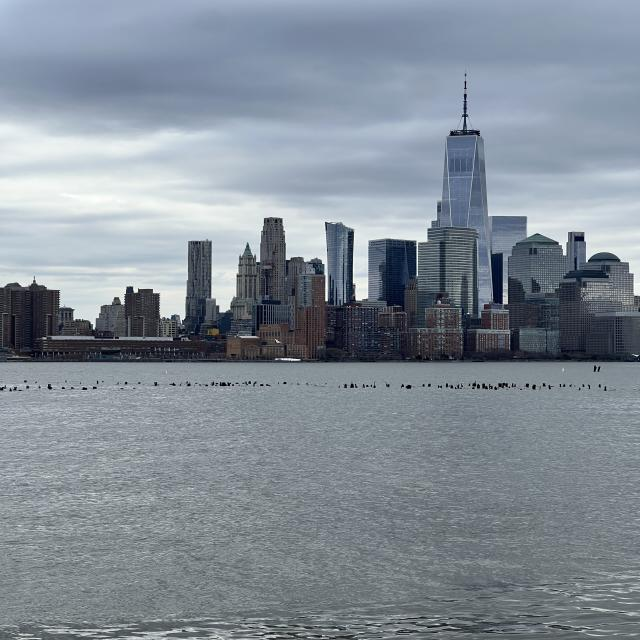WTC: (441, 70, 488, 227)
